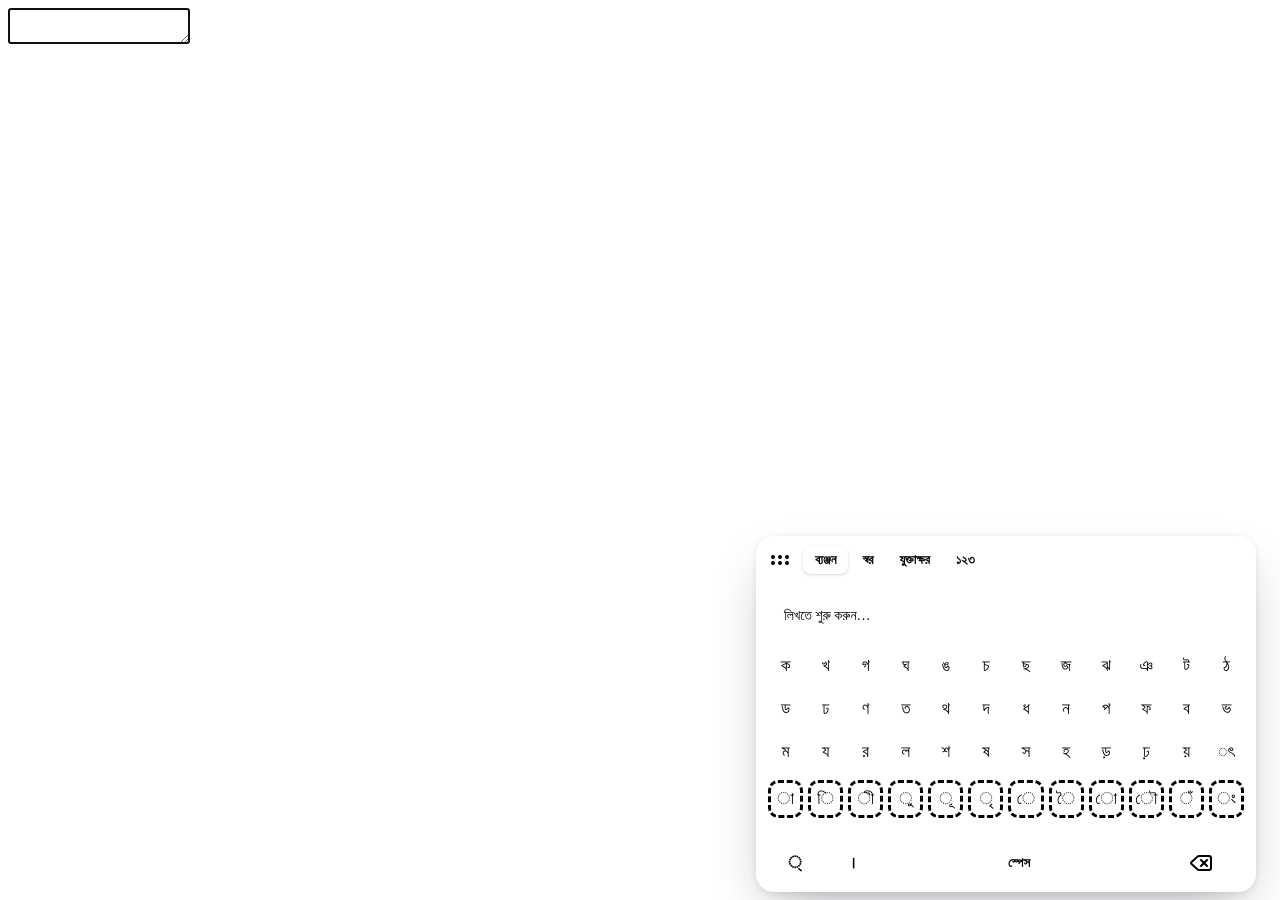
Scenario: BanglaKeyboard › does not swallow the phonetic keyboard’s own word
Type "sokal" into the text box named "advice" at (99, 26), box [8,8,190,44]
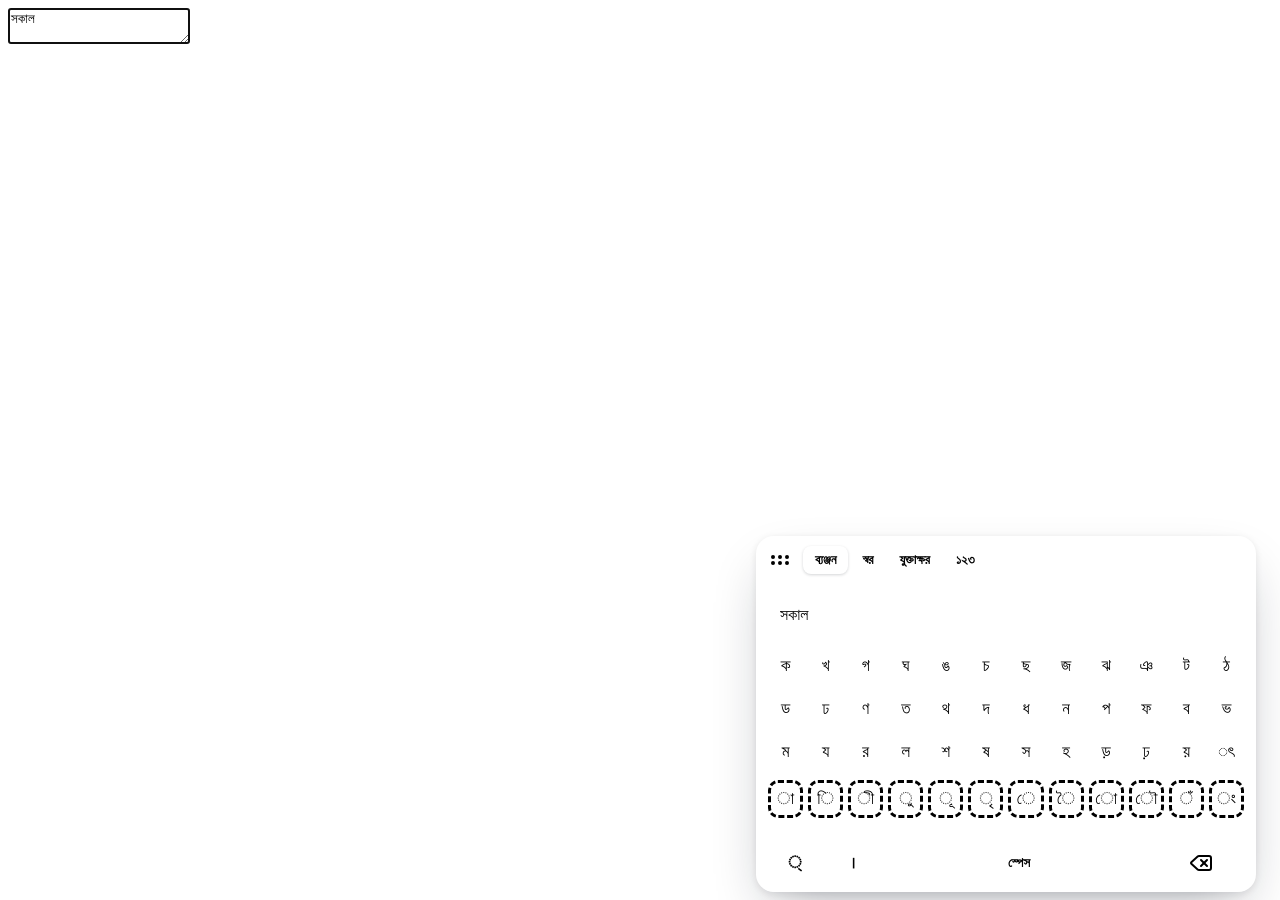
Click the button "◌ে" at (1026, 798), box [1008,780,1044,818]
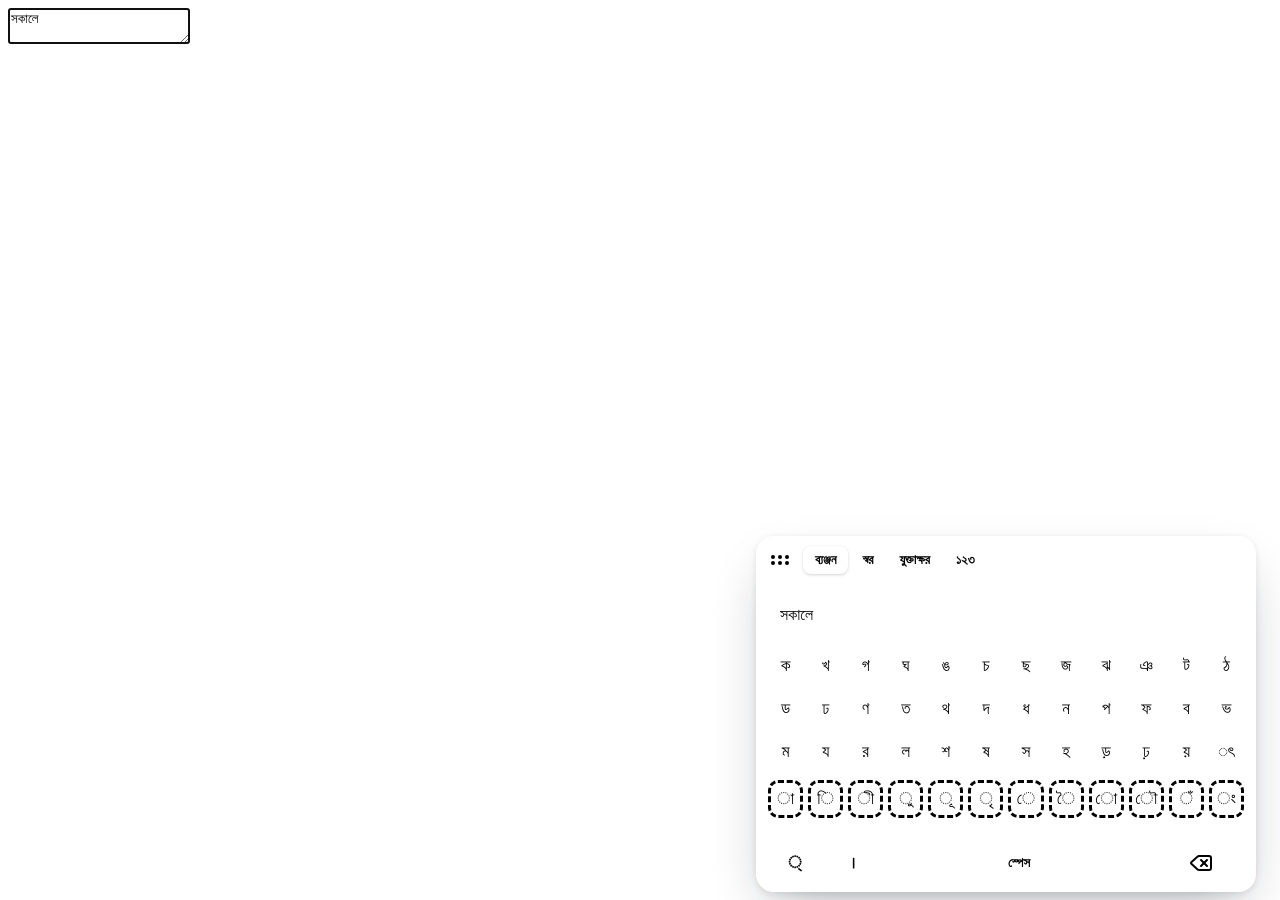
Now the text box named "advice" holds "সকালে", box [8,8,190,44]
Type keys " rat"
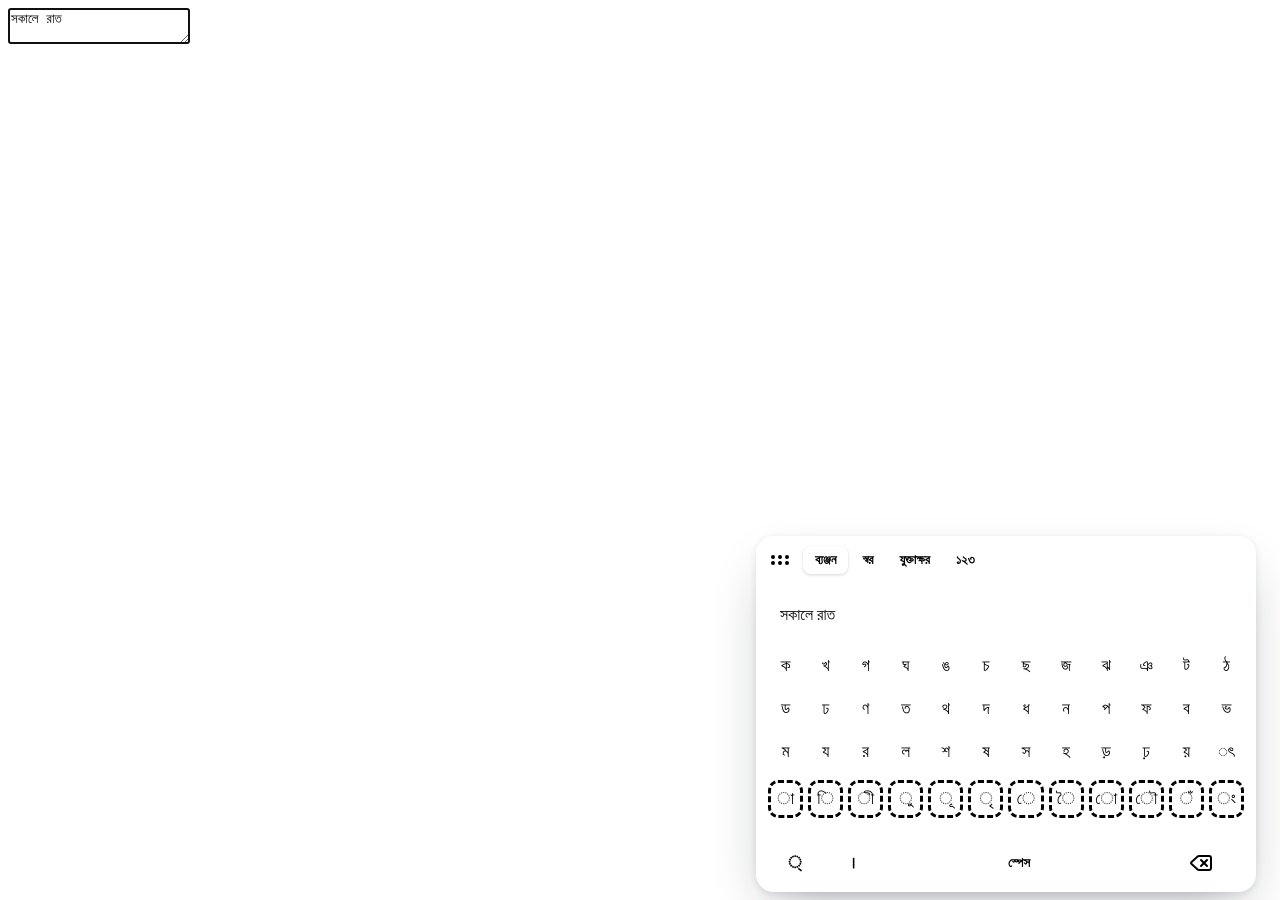
Now the text box named "advice" holds "সকালে রাত", box [8,8,190,44]
